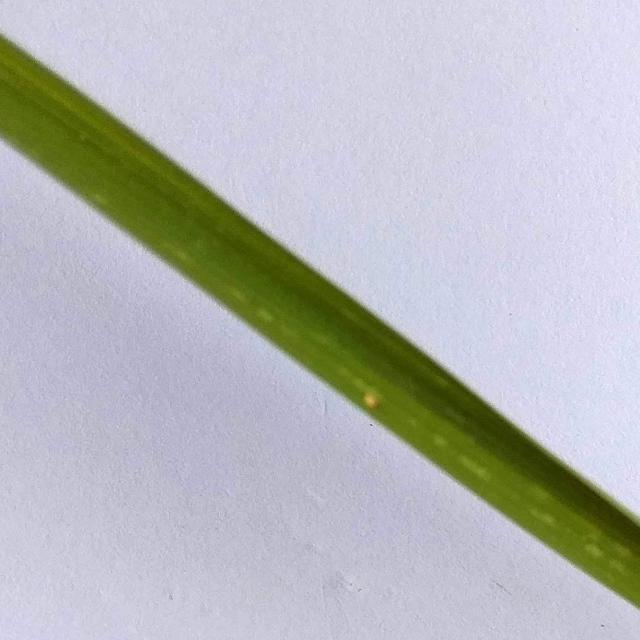Blast: (362, 386, 379, 409)
